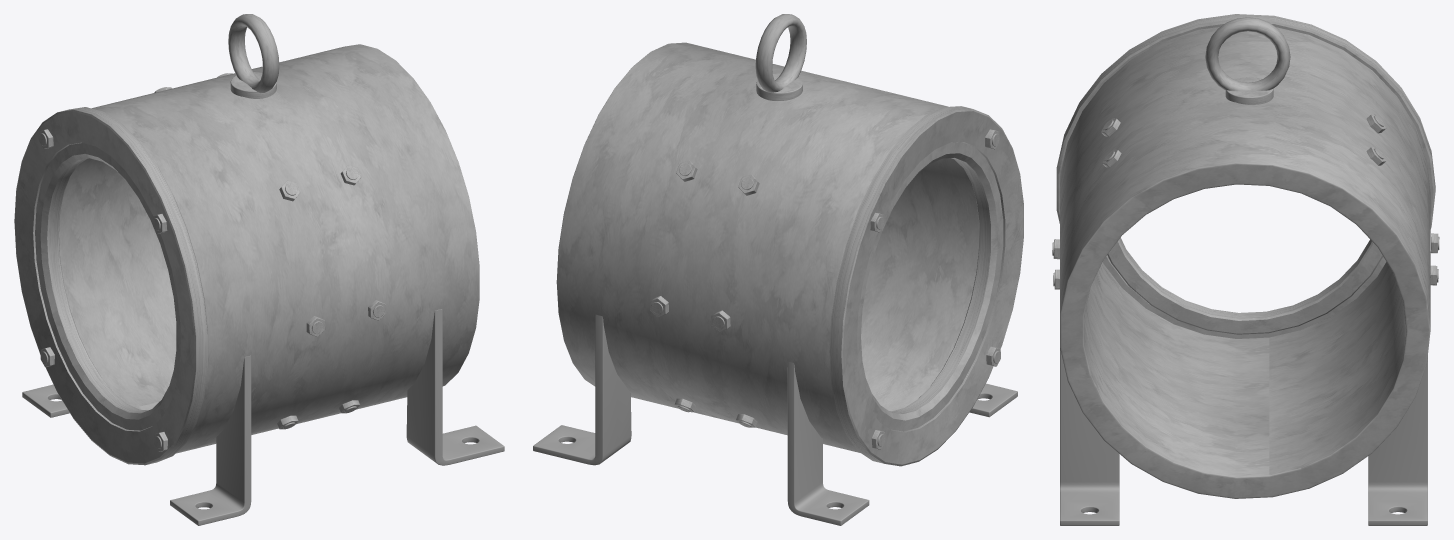
Rendered from Frame.glb.
3 views of the same model, side by side, from view 1: azimuth 30°, elevation 25°; view 2: azimuth 150°, elevation 25°; view 3: azimuth 270°, elevation 25° (orthographic). The views are drawn at different scales.
Parts seen in each view (by area): view 1: Cylinder072, Object018, Plane040, Object020, Torus003, Cylinder076, Cylinder090, Cylinder073; view 2: Cylinder072, Object018, Plane040, Object020, Torus003, Cylinder074, Cylinder073, Cylinder080; view 3: Cylinder072, Plane040, Object018, Object020, Torus003, Cylinder073, Cylinder074.
Part boxes in pixels (x1=…): Cylinder072: x1=59, y1=44, x2=479, y2=453; Object018: x1=14, y1=107, x2=207, y2=465; Plane040: x1=22, y1=309, x2=504, y2=525; Object020: x1=35, y1=142, x2=180, y2=430; Torus003: x1=228, y1=14, x2=279, y2=93; Cylinder076: x1=279, y1=165, x2=361, y2=201; Cylinder090: x1=306, y1=300, x2=386, y2=336; Cylinder073: x1=230, y1=72, x2=276, y2=98; Cylinder072: x1=556, y1=42, x2=978, y2=452; Object018: x1=829, y1=106, x2=1023, y2=466; Plane040: x1=533, y1=314, x2=1017, y2=525; Object020: x1=856, y1=142, x2=1003, y2=431; Torus003: x1=755, y1=14, x2=806, y2=92; Cylinder074: x1=676, y1=160, x2=759, y2=195; Cylinder073: x1=756, y1=73, x2=802, y2=100; Cylinder080: x1=650, y1=296, x2=730, y2=331; Cylinder072: x1=1060, y1=27, x2=1430, y2=498; Plane040: x1=1060, y1=348, x2=1427, y2=525; Object018: x1=1056, y1=14, x2=1435, y2=338; Object020: x1=1107, y1=237, x2=1382, y2=334; Torus003: x1=1205, y1=17, x2=1290, y2=90; Cylinder073: x1=1225, y1=77, x2=1273, y2=104; Cylinder074: x1=1366, y1=114, x2=1386, y2=165.
Bounding box in the file's own units: 0.6135 × 0.7554 × 0.6221.
Materials: 2 (2 with a texture image).
